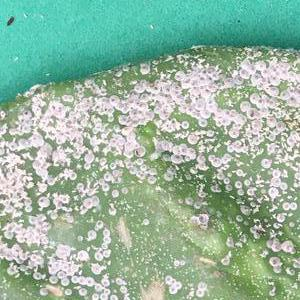Femea: (2, 214, 50, 246), (0, 168, 34, 212), (174, 62, 217, 93), (152, 136, 195, 165), (32, 142, 58, 187), (212, 105, 246, 139), (235, 55, 271, 87), (246, 90, 280, 120), (45, 246, 70, 286), (174, 94, 218, 116), (90, 129, 125, 156), (122, 96, 153, 126), (134, 74, 173, 97), (271, 55, 297, 87), (247, 121, 288, 141), (10, 104, 37, 134), (122, 156, 152, 183), (207, 151, 232, 181), (91, 93, 120, 118), (46, 95, 74, 119), (92, 273, 117, 299), (57, 123, 85, 146), (71, 186, 101, 207), (125, 127, 148, 154), (267, 168, 290, 194), (0, 140, 21, 167), (160, 117, 190, 134), (278, 87, 299, 109), (225, 140, 259, 153), (154, 97, 173, 119), (74, 153, 98, 170), (71, 274, 91, 294)
Macho: (261, 194, 270, 201), (230, 193, 238, 197)
